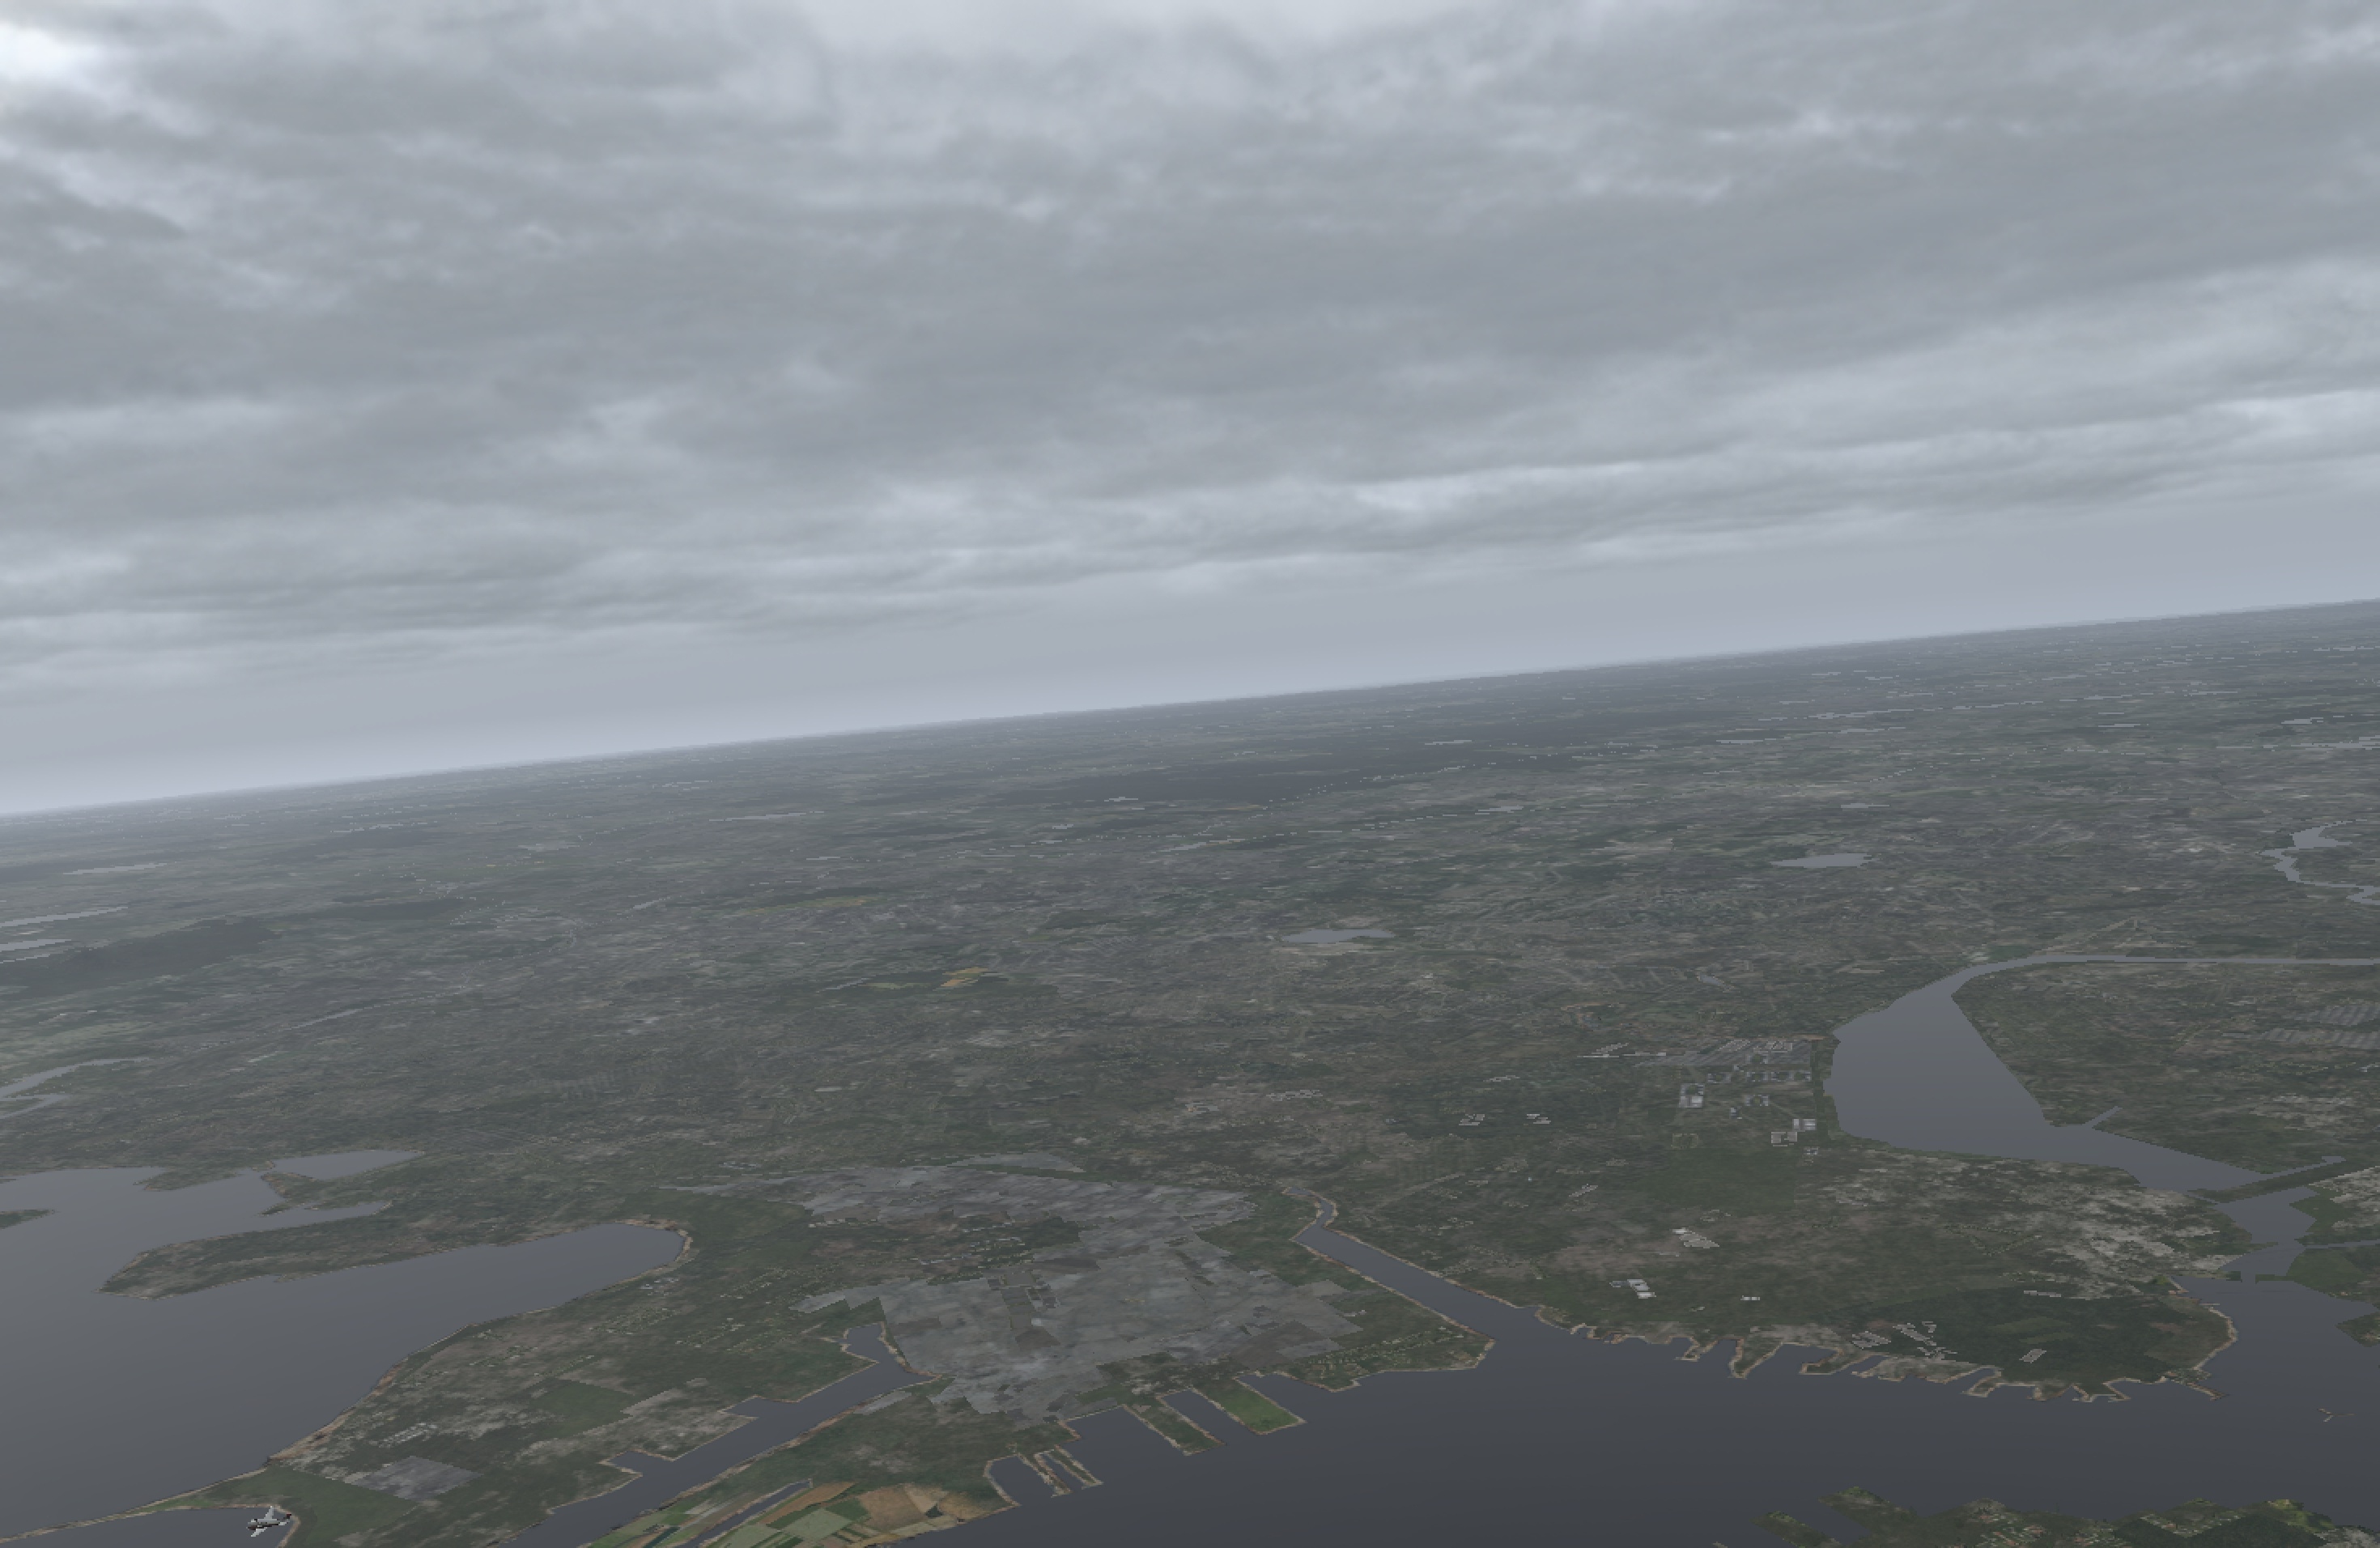aircraft: (234, 1515, 288, 1536)
